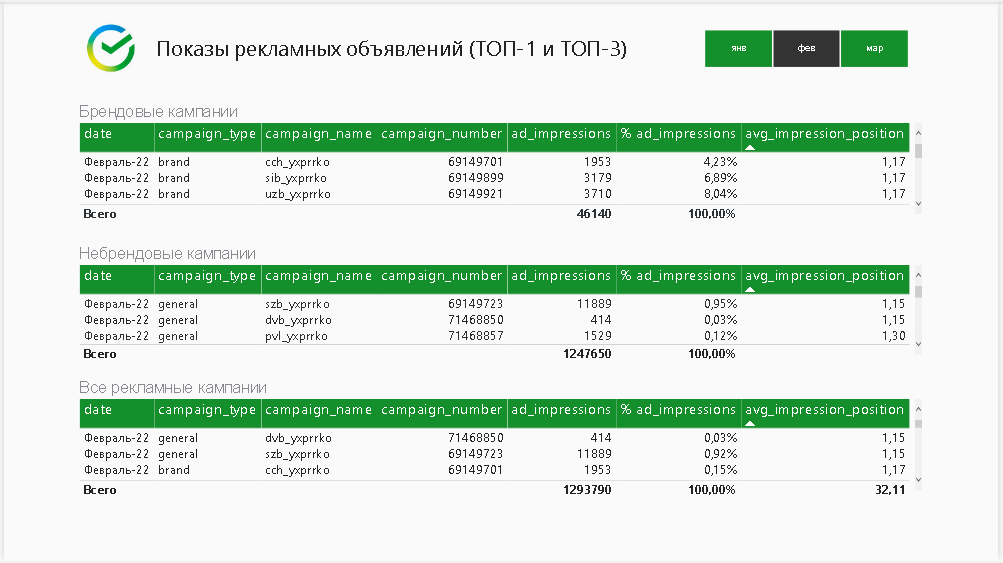

This screenshot's page, from the dashboard's own definition file:
{"tool":"powerbi","page":{"name":"TOP","canvas":[1280,720],"ordinal":0},"visuals":[{"type":"tableEx","title":"Брендовые кампании","fields":{"Values":["calendar.Месяц года","marketing_campaign.campaign_type","marketing_campaign.campaign_name","marketing_campaign.campaign_number","Sum(marketing_campaign.ad_impressions)","Divide(Sum(marketing_campaign.ad_impressions), ScopedEval(Sum(marketing_campaign.ad_impressions), []))","marketing_campaign.avg_impression_position"]},"box":[91.4,128.8,1096.1,158.4],"z":0},{"type":"slicer","fields":{"Values":["calendar.Мес."]},"box":[877,29.7,311.2,60.8],"z":1000},{"type":"tableEx","title":"Небрендовые кампании","fields":{"Values":["calendar.Месяц года","marketing_campaign.campaign_type","marketing_campaign.campaign_name","marketing_campaign.campaign_number","Sum(marketing_campaign.ad_impressions)","Divide(Sum(marketing_campaign.ad_impressions), ScopedEval(Sum(marketing_campaign.ad_impressions), []))","marketing_campaign.avg_impression_position"]},"box":[91.4,311.7,1096.1,155.8],"z":2000},{"type":"tableEx","title":"Все рекламные кампании","fields":{"Values":["calendar.Месяц года","marketing_campaign.campaign_type","marketing_campaign.campaign_name","marketing_campaign.campaign_number","Sum(marketing_campaign.ad_impressions)","Divide(Sum(marketing_campaign.ad_impressions), ScopedEval(Sum(marketing_campaign.ad_impressions), []))","Sum(marketing_campaign.avg_impression_position)"]},"box":[91.4,484.3,1096.1,158.4],"z":3000},{"type":"textbox","box":[149.9,35.4,700.2,49.5],"z":3001},{"type":"image","box":[91.9,18.4,91.9,83.5],"z":3002}]}

Visuals, with their boxes in screenshot pixels (x1, y1, x2, y2), scaled from the page's 1280x720 canvas onto the 1003x563 screenshot:
"Брендовые кампании" tableEx: BBox(72, 101, 931, 225)
slicer - calendar.Мес.: BBox(687, 23, 931, 71)
"Небрендовые кампании" tableEx: BBox(72, 244, 931, 366)
"Все рекламные кампании" tableEx: BBox(72, 379, 931, 503)
textbox: BBox(117, 28, 666, 66)
image: BBox(72, 14, 144, 80)
